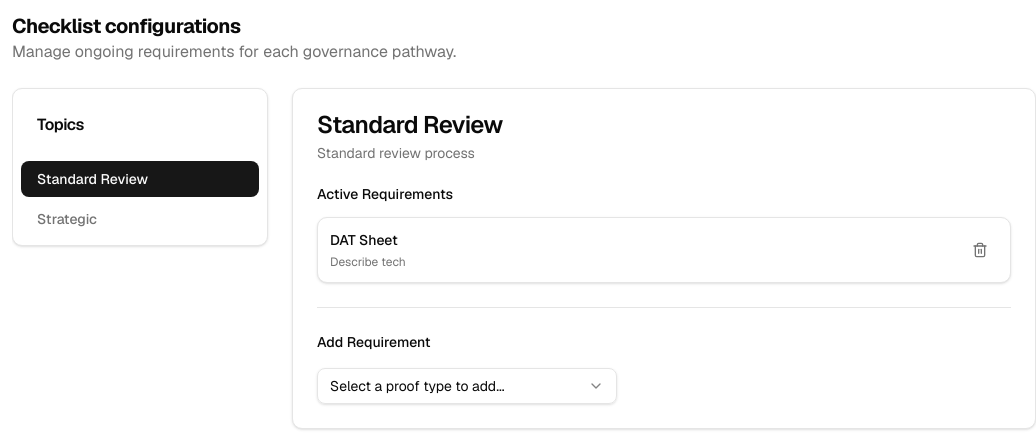
Test: ChecklistEditor › allows switching topics
Click the text "Strategic" at (67, 219), box [37,210,97,228]
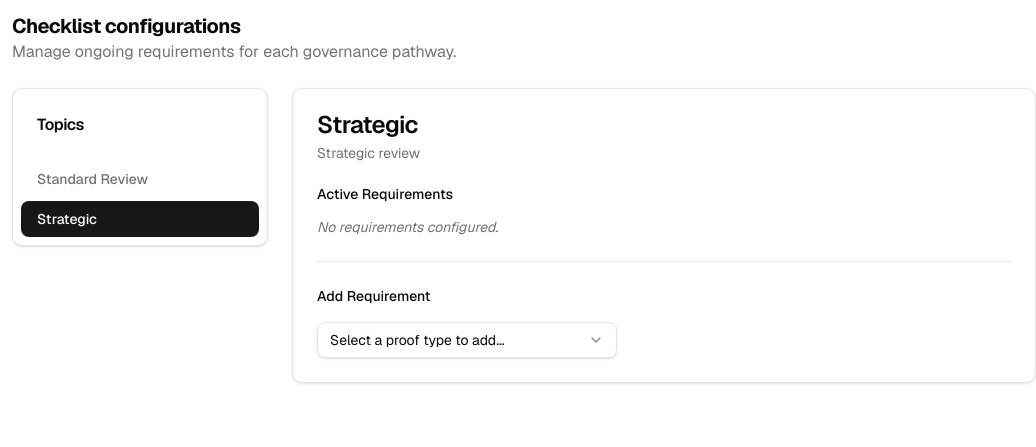
Expected: the text "No requirements configured." is shown, [317,218,498,236]
